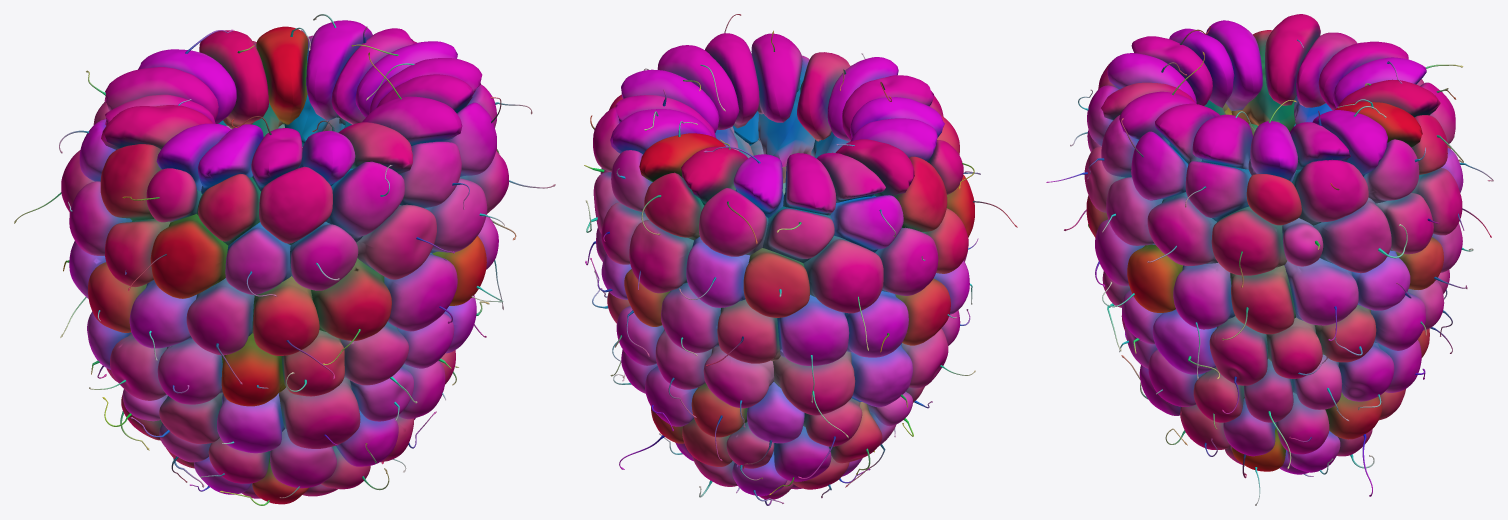
File: raspberry.glb
3 views of the same model, side by side, from view 1: azimuth 30°, elevation 25°; view 2: azimuth 150°, elevation 25°; view 3: azimuth 270°, elevation 25° (orthographic). The views are drawn at different scales.
Parts seen in each view (by area): view 1: Raspberry_LOD0, Raspberry_Styles_Mesh; view 2: Raspberry_LOD0, Raspberry_Styles_Mesh; view 3: Raspberry_LOD0, Raspberry_Styles_Mesh.
Boxes of the visible parts, bbox=[...] form: Raspberry_LOD0: bbox=[61, 20, 508, 504]; Raspberry_Styles_Mesh: bbox=[14, 14, 555, 505]; Raspberry_LOD0: bbox=[593, 33, 974, 499]; Raspberry_Styles_Mesh: bbox=[584, 14, 1017, 505]; Raspberry_LOD0: bbox=[1084, 14, 1463, 474]; Raspberry_Styles_Mesh: bbox=[1046, 26, 1493, 505].
Size of what is drawn, in the model's own units: 2.37 by 2.53 by 2.36.
